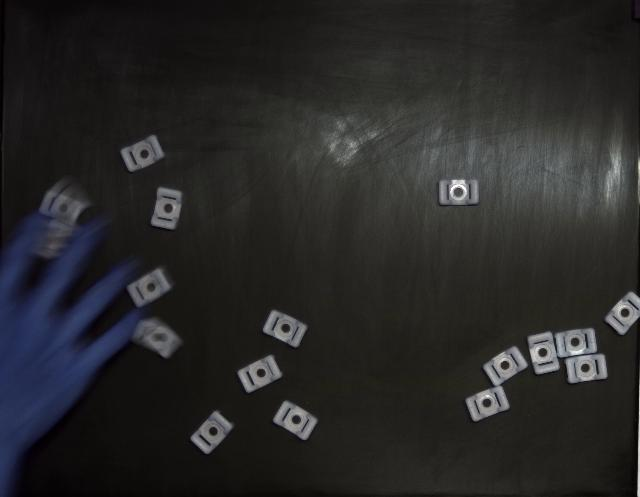first_side: (190, 411, 234, 455), (274, 401, 318, 441), (484, 346, 528, 386), (262, 310, 308, 348), (128, 269, 172, 308), (120, 135, 165, 172), (238, 355, 282, 392), (465, 386, 510, 422), (604, 292, 640, 335), (528, 331, 560, 375), (151, 188, 182, 230), (565, 354, 608, 384), (554, 329, 598, 358), (439, 180, 479, 206)
